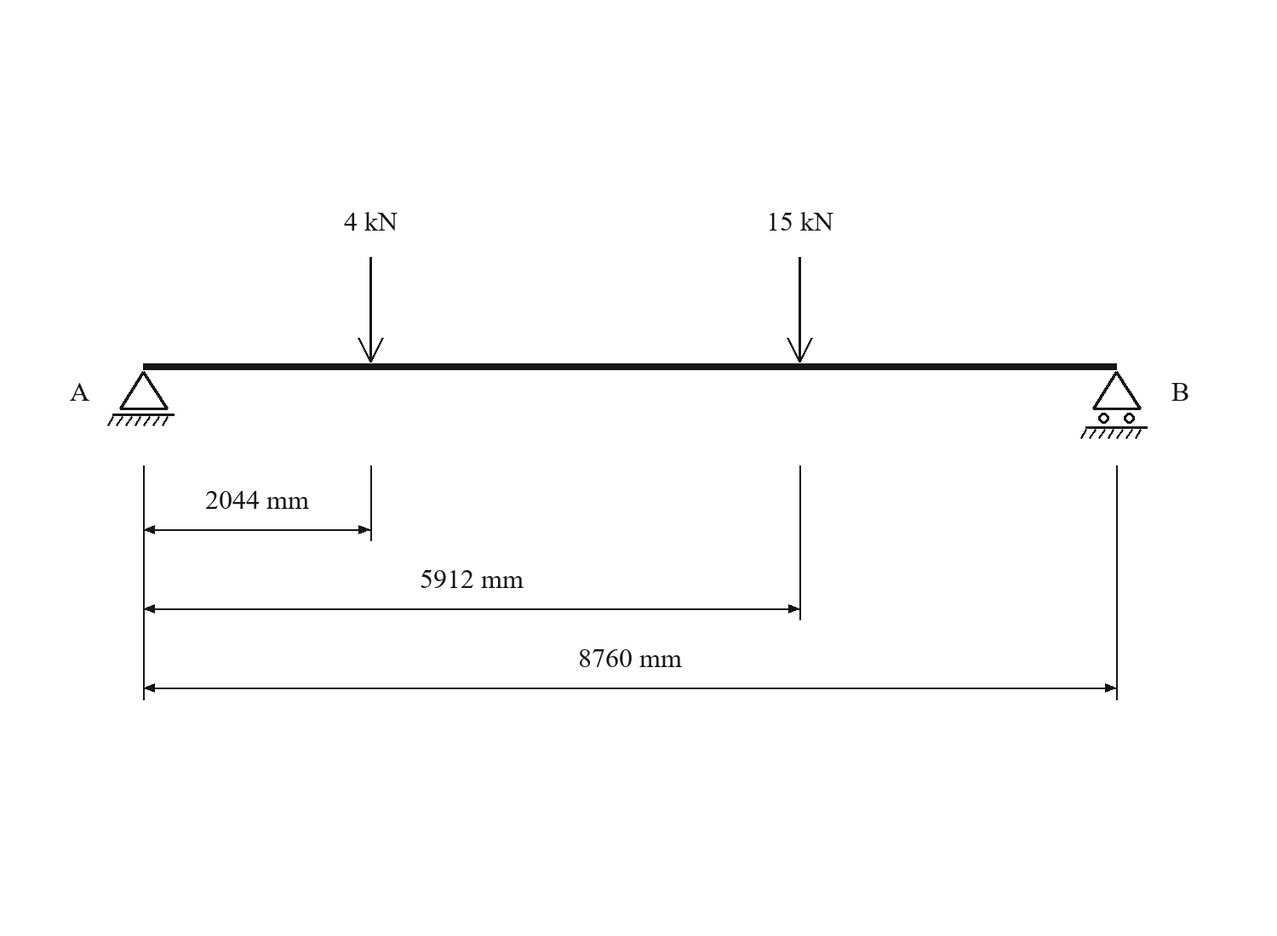pin_support: (107, 371, 175, 426)
point_load: (358, 257, 384, 362), (787, 257, 813, 362)
roller_support: (1080, 371, 1148, 439)
